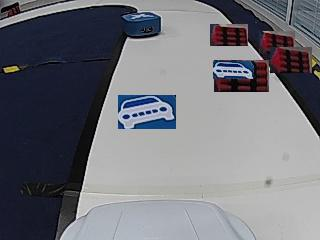prop: (122, 13, 160, 39)
